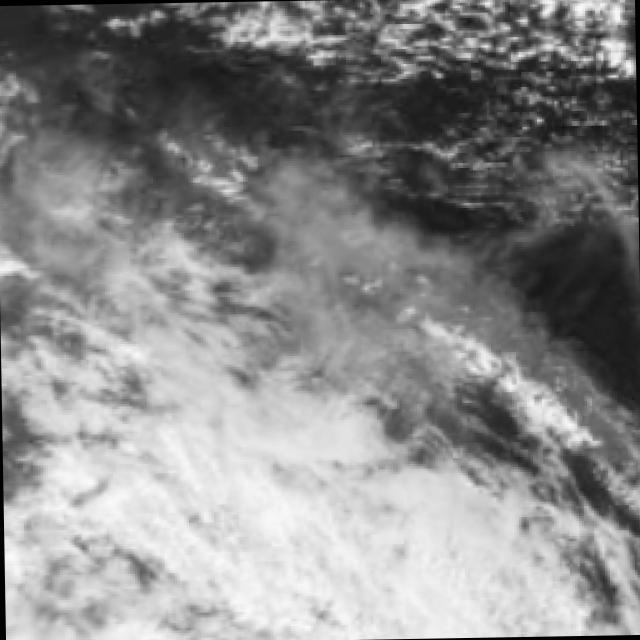CB: (318, 478, 535, 640), (130, 474, 319, 636), (115, 370, 322, 498), (2, 477, 161, 640)
